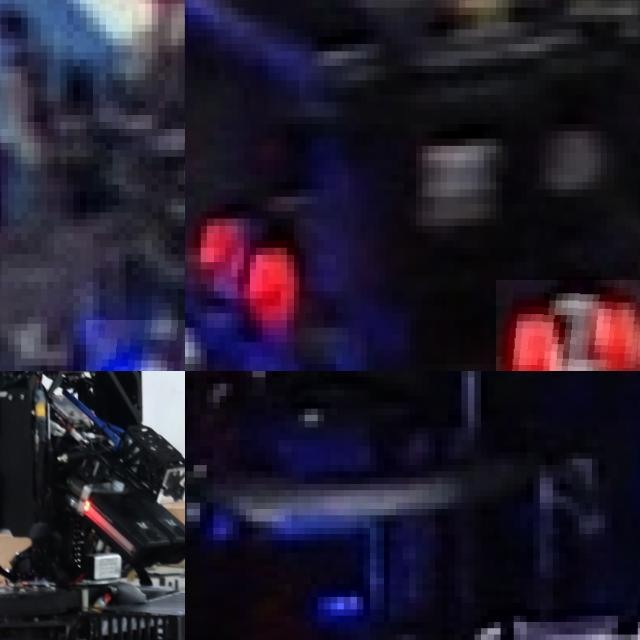B2: (86, 320, 185, 371)
R2: (185, 204, 308, 327), (496, 280, 640, 371)
